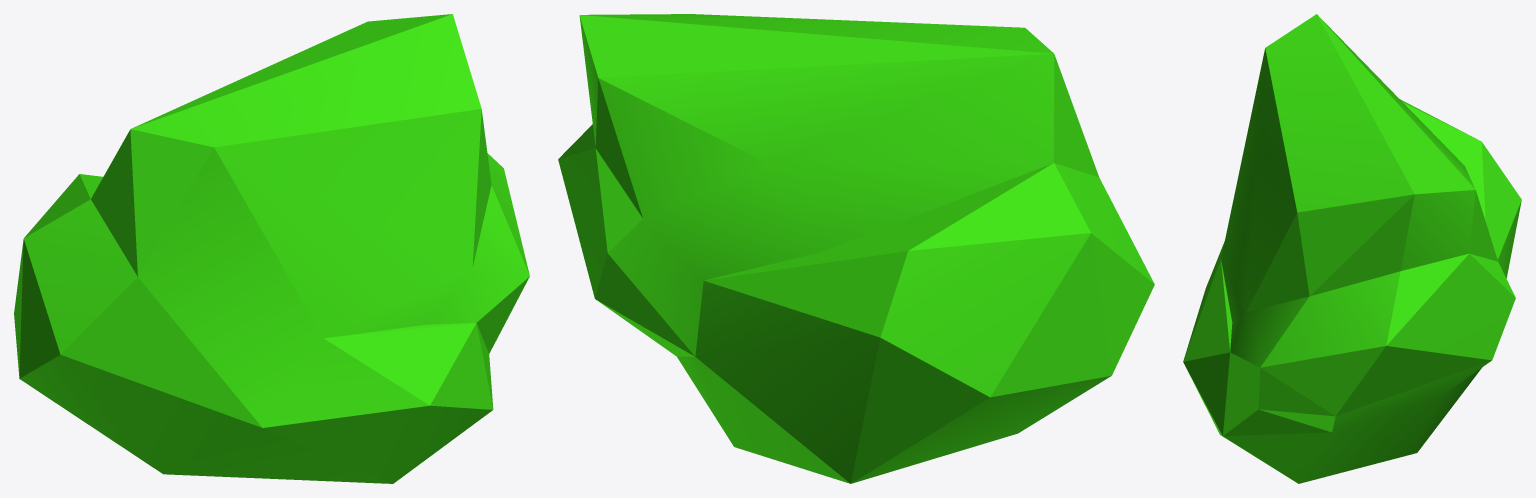
The model's file is Mato 2.fbx.
3 views of the same model, side by side, from view 1: azimuth 30°, elevation 25°; view 2: azimuth 150°, elevation 25°; view 3: azimuth 270°, elevation 25° (orthographic). The views are drawn at different scales.
Visible parts, largest first — view 1: Mato 2; view 2: Mato 2; view 3: Mato 2.
Boxes of the visible parts, <box> form: Mato 2: <box>14,14,529,483</box>; Mato 2: <box>558,14,1154,483</box>; Mato 2: <box>1183,14,1521,483</box>.
Bounding box in the file's own units: 203 × 158 × 134.
